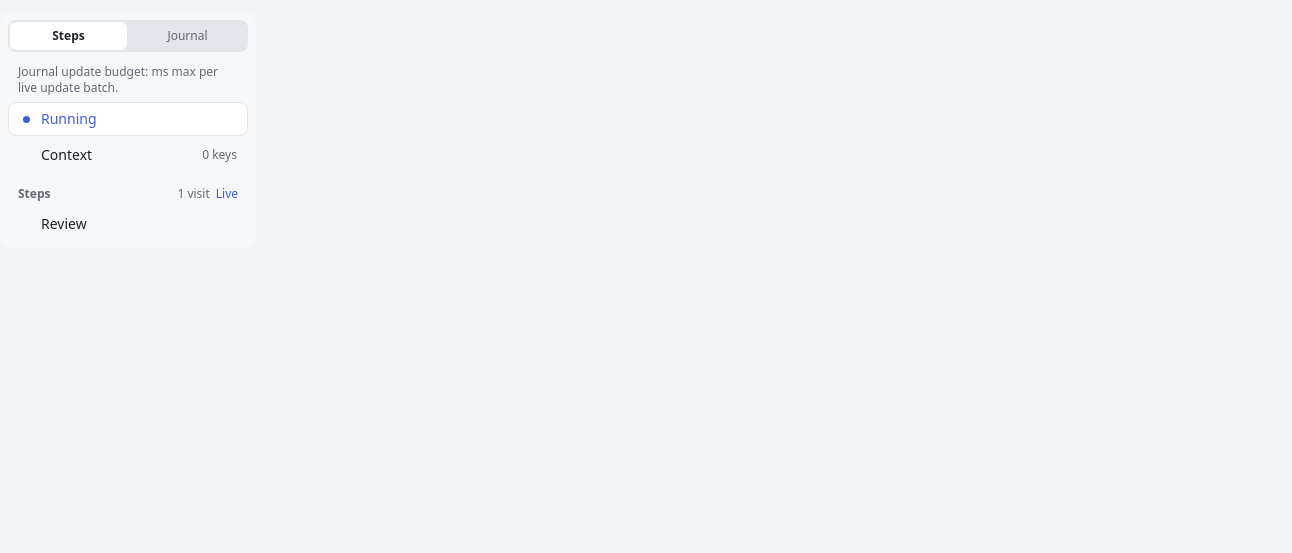
Test: RunVisitsCard › folds a visit transcript into command groups and hides thinking until asked
Step 1. Click the option with test id "run-visit-row" → point(128, 224), box [8,208,248,240]
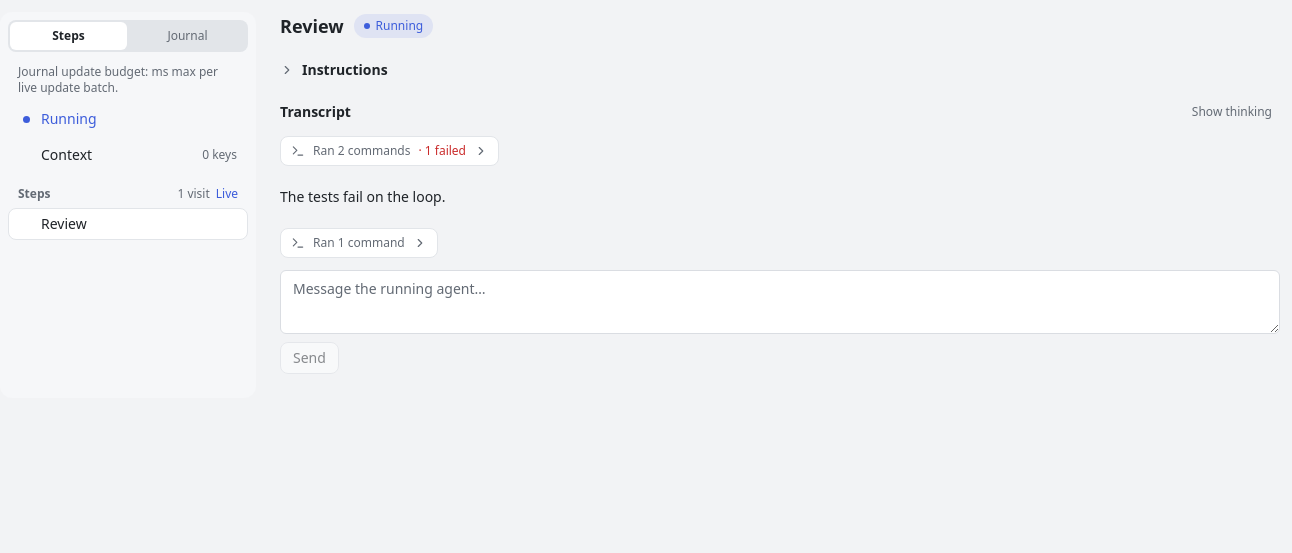
Expected: the text "Checking the diff" is not shown
Now the element with test id "run-visit-view-outcome" reads "Running", box [376,17,423,34]
Now the list with test id "run-visit-transcript" shows "The tests fail on the loop.", box [280,187,446,206]
Step 2. Click the button "Ran 2 commands · 1 failed" → point(390, 151), box [280,136,499,166]
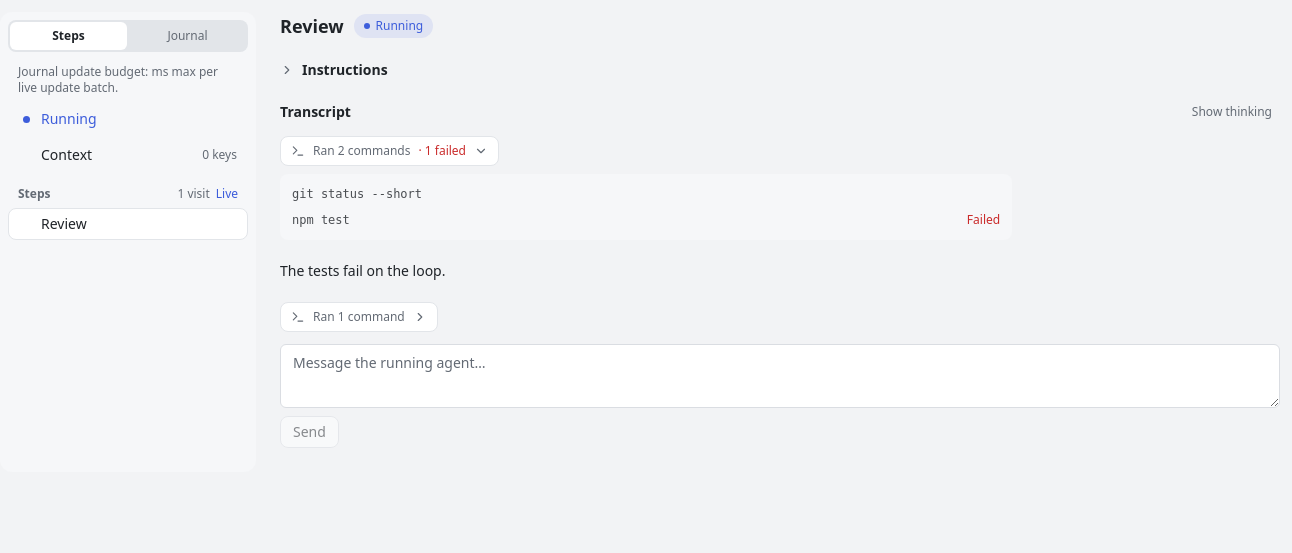
Expected: the text "Checking the diff" is not shown
Now the text "git status --short" is shown, box [292,187,422,201]
Now the text "Failed" is shown, box [967,208,1000,232]
Step 3. Click the button "Show thinking" → point(1232, 112), box [1184,100,1280,124]
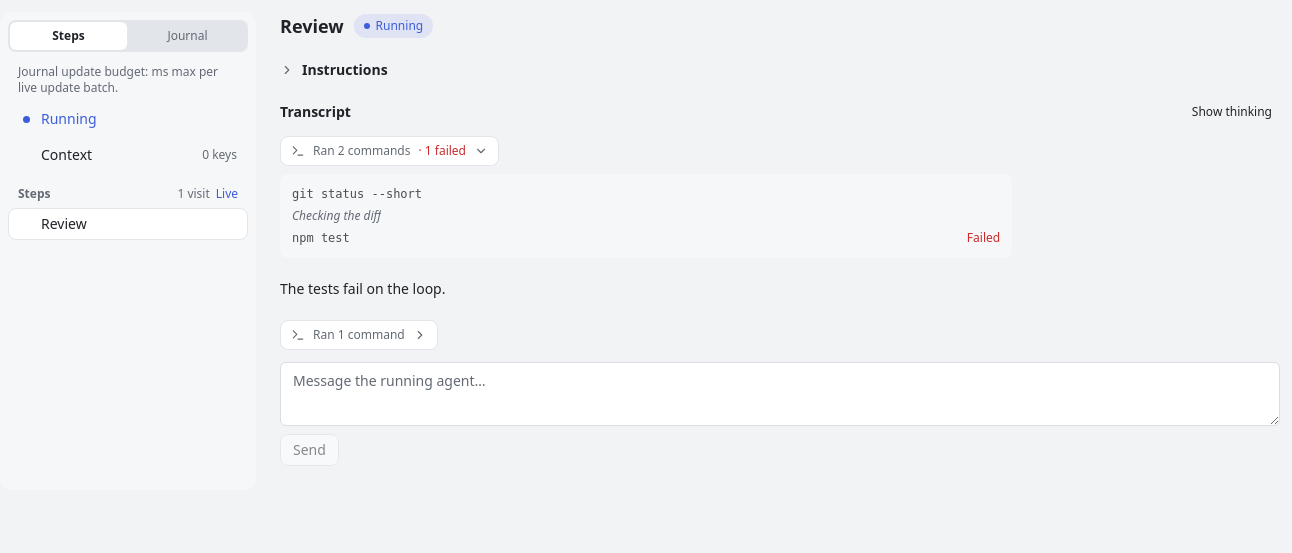
Now the button "Checking the diff" is shown, box [292,208,381,224]
// A line still expands to that call's output.
Step 4. Click the text "npm test" → point(321, 238), box [292,231,350,245]
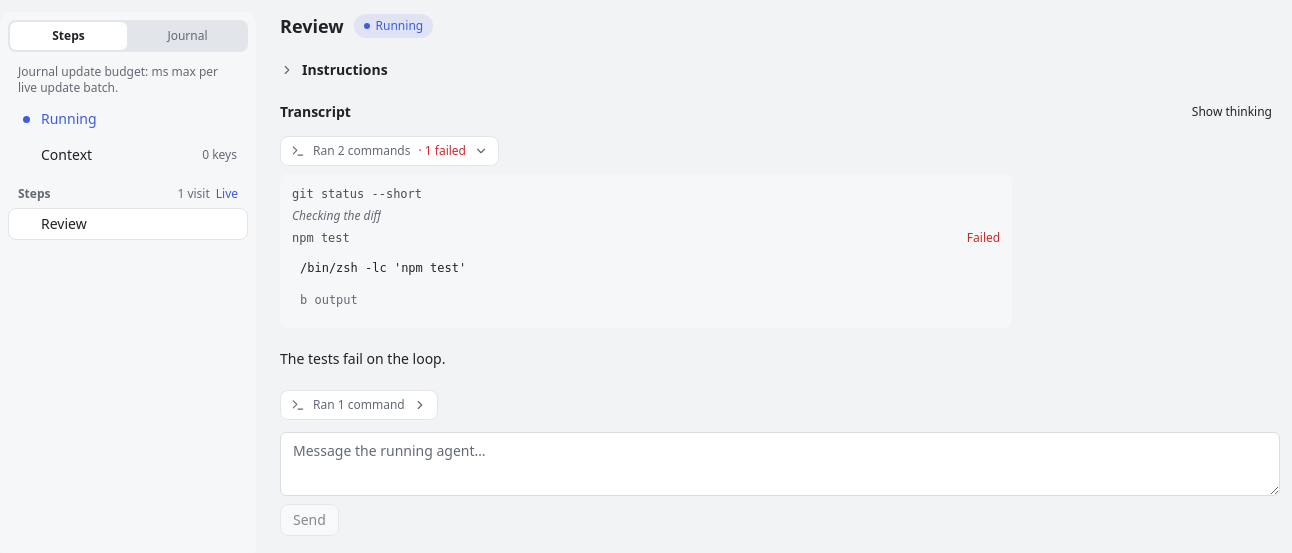
Now the text "b output" is shown, box [292,288,1000,312]
